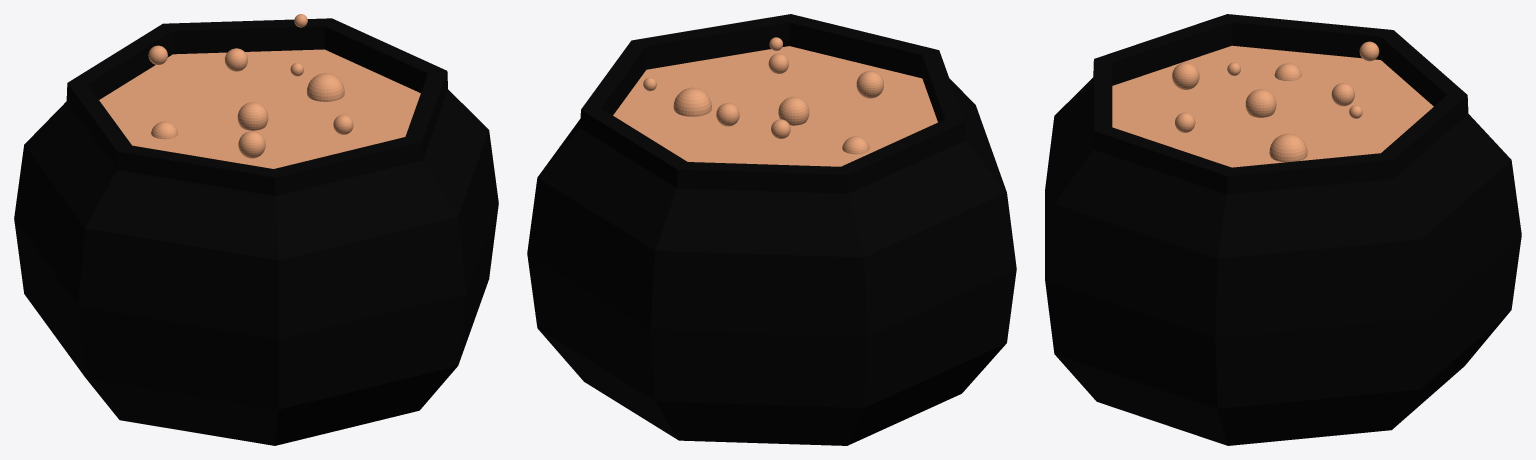
File: kettle.fbx
The picture shows the model from 3 angles, left to right: view 1: azimuth 30°, elevation 25°; view 2: azimuth 150°, elevation 25°; view 3: azimuth 270°, elevation 25°; orthographic projection.
Parts seen in each view (by area): view 1: Cylinder.012, Sphere.006, Sphere.003, Sphere.001; view 2: Cylinder.012, Sphere.006, Sphere.003, Sphere.001; view 3: Cylinder.012, Sphere.006, Sphere.003, Sphere.001.
Part boxes in pixels (bbox=[...]): Cylinder.012: bbox=[14, 18, 498, 445]; Sphere.006: bbox=[306, 73, 344, 101]; Sphere.003: bbox=[237, 102, 268, 130]; Sphere.001: bbox=[238, 131, 265, 158]; Cylinder.012: bbox=[527, 14, 1016, 445]; Sphere.006: bbox=[673, 87, 711, 116]; Sphere.003: bbox=[778, 96, 809, 125]; Sphere.001: bbox=[856, 71, 883, 98]; Cylinder.012: bbox=[1045, 14, 1521, 445]; Sphere.006: bbox=[1269, 133, 1307, 162]; Sphere.003: bbox=[1245, 89, 1276, 117]; Sphere.001: bbox=[1172, 62, 1199, 89].
Bounding box in the file's own units: 68.06 × 52.04 × 66.35.
